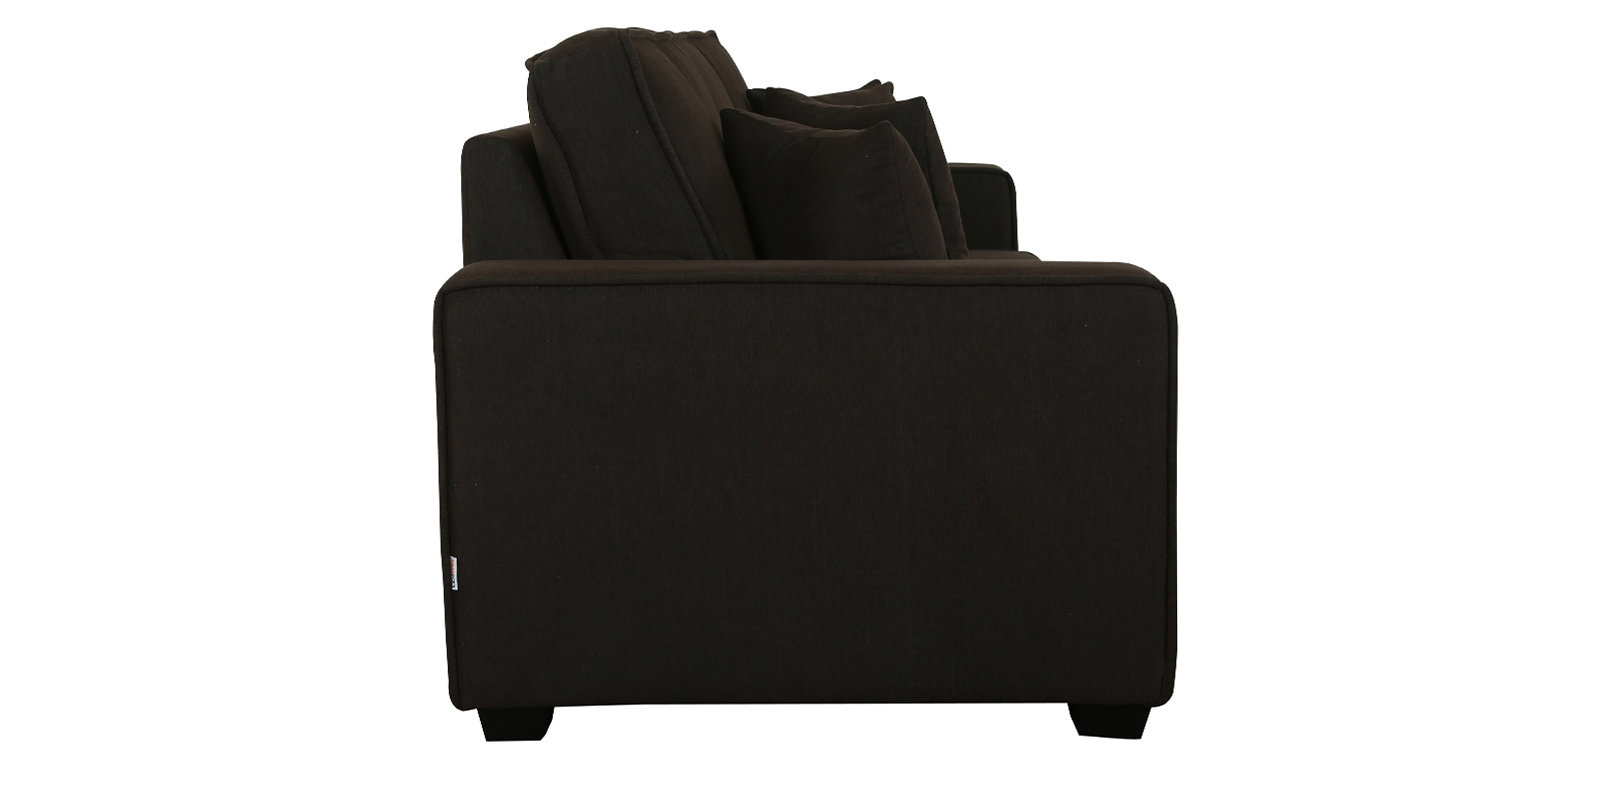Hugo Three Seater Sofa in Chestnut Brown Colour by CasaCraft: (422, 10, 1210, 758)
